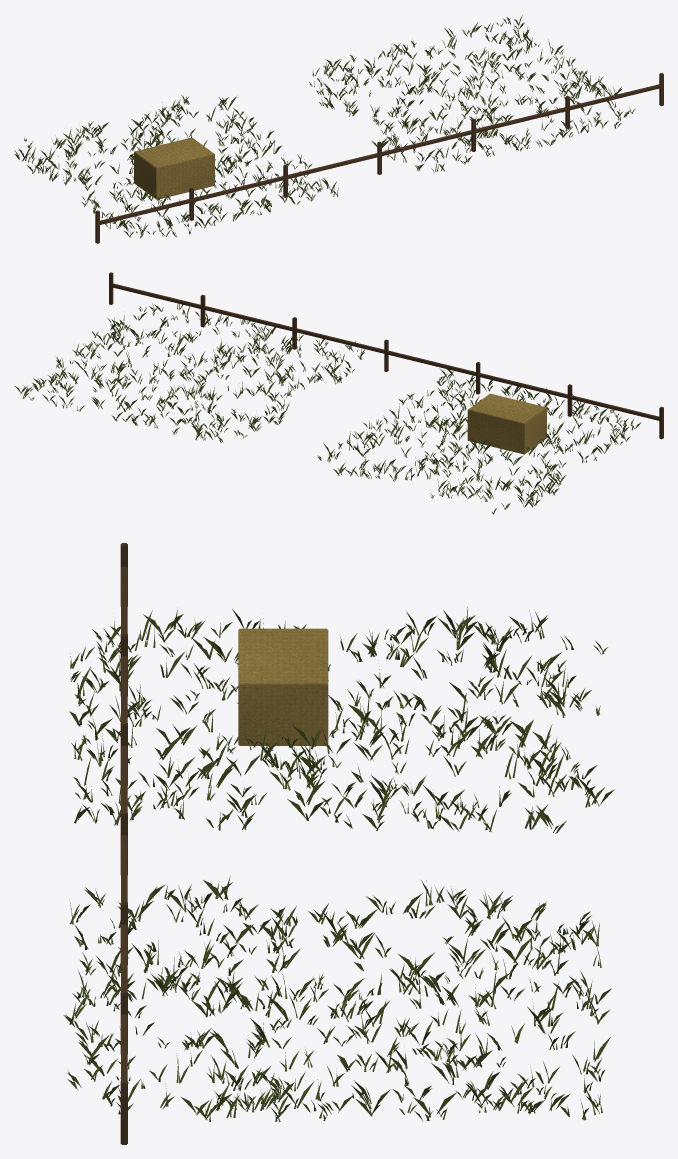
File: farmland-v1.glb
The picture shows the model from 3 angles, top to bottom: view 1: azimuth 30°, elevation 25°; view 2: azimuth 150°, elevation 25°; view 3: azimuth 270°, elevation 25°; orthographic projection. The views are drawn at different scales.
Parts seen in each view (by area): view 1: Grass blades, Hay stack, Field rail; view 2: Grass blades, Hay stack, Field rail; view 3: Grass blades, Hay stack, Field rail.
Part boxes in pixels (x1=…): Grass blades: x1=14, y1=15, x2=634, y2=238; Hay stack: x1=134, y1=137, x2=214, y2=199; Field rail: x1=99, y1=84, x2=661, y2=224; Grass blades: x1=15, y1=303, x2=641, y2=514; Hay stack: x1=467, y1=393, x2=546, y2=454; Field rail: x1=111, y1=283, x2=659, y2=420; Grass blades: x1=63, y1=607, x2=614, y2=1122; Hay stack: x1=238, y1=628, x2=328, y2=745; Field rail: x1=121, y1=566, x2=127, y2=1081.
Size of what is drawn, in the model's own units: 24.14 by 1.3 by 10.42.
10 materials, 10 textured.
